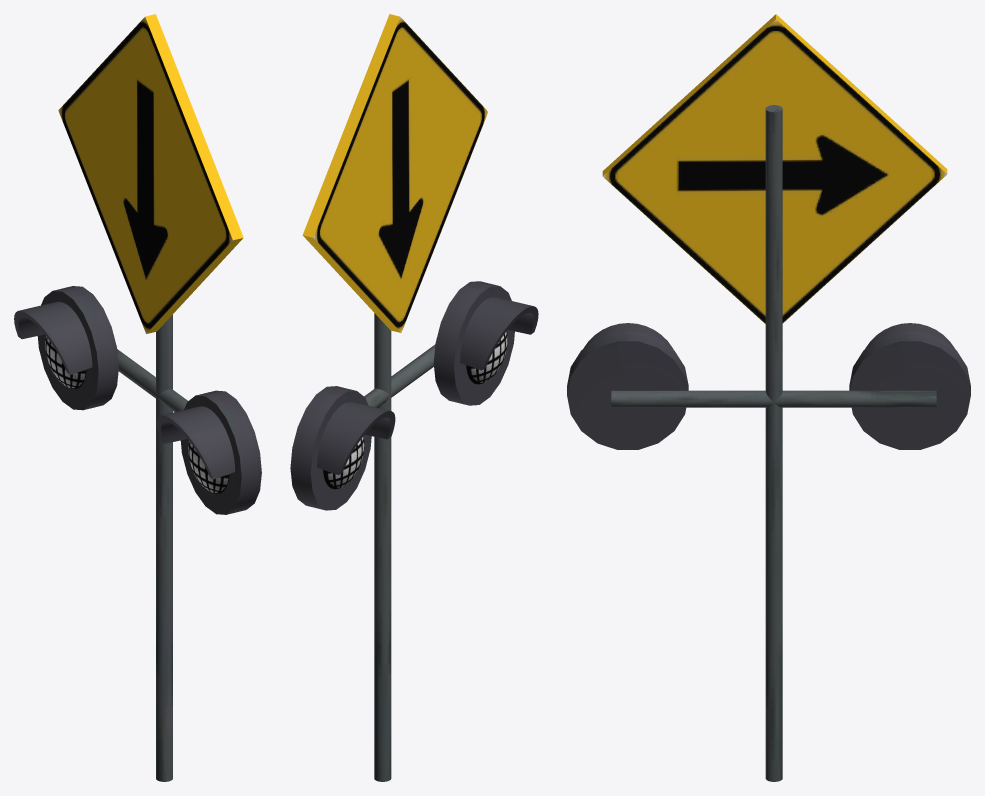
The model's file is signal.DAE.
3 renders of one model, left to right at view 1: azimuth 30°, elevation 25°; view 2: azimuth 150°, elevation 25°; view 3: azimuth 270°, elevation 25°, orthographic.
Visible parts, largest first — view 1: Box002, Cylinder001, Cylinder003, Cylinder004, Tube002, Tube001, Cylinder002, Sphere003, Sphere002; view 2: Box002, Cylinder001, Cylinder003, Cylinder004, Tube002, Tube001, Cylinder002, Sphere003, Sphere002; view 3: Box002, Cylinder001, Cylinder004, Cylinder003, Cylinder002.
Boxes of the visible parts, x1,y1,x2,y2 form: Box002: [58, 14, 243, 333]; Cylinder001: [156, 314, 172, 781]; Cylinder003: [37, 286, 118, 410]; Cylinder004: [180, 390, 261, 514]; Tube002: [14, 301, 92, 374]; Tube001: [157, 406, 235, 479]; Cylinder002: [117, 349, 187, 412]; Sphere003: [188, 440, 229, 493]; Sphere002: [45, 336, 86, 388]; Box002: [302, 14, 487, 332]; Cylinder001: [374, 313, 391, 781]; Cylinder003: [290, 386, 371, 510]; Cylinder004: [433, 281, 514, 405]; Tube002: [317, 402, 395, 475]; Tube001: [460, 297, 538, 370]; Cylinder002: [364, 344, 435, 407]; Sphere003: [466, 331, 507, 384]; Sphere002: [323, 436, 364, 489]; Box002: [602, 14, 947, 323]; Cylinder001: [765, 105, 782, 781]; Cylinder004: [567, 331, 688, 449]; Cylinder003: [849, 331, 970, 449]; Cylinder002: [611, 390, 936, 407].
Size of the model in its own units: 178 by 1764 by 855.
